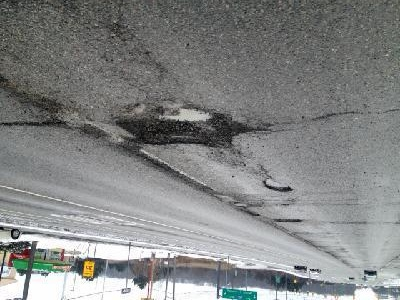pothole: (112, 106, 250, 150), (262, 175, 296, 194), (272, 218, 304, 224)
